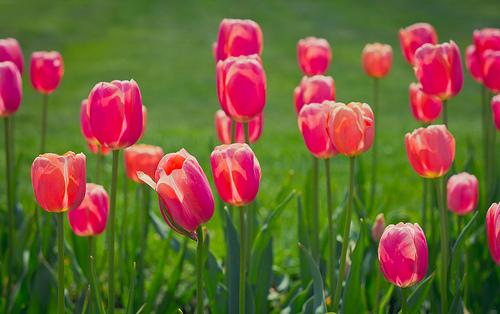tulip: (155, 148, 214, 240), (81, 78, 145, 151), (379, 220, 431, 287), (215, 55, 267, 120), (32, 151, 87, 211), (210, 143, 262, 205), (415, 40, 464, 97), (403, 125, 456, 176), (330, 101, 375, 154), (298, 37, 332, 75), (447, 172, 478, 213), (31, 51, 63, 90), (0, 62, 22, 118)
